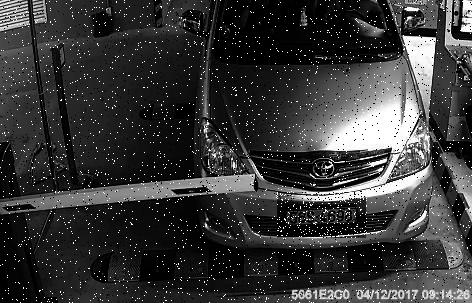License-plate: (279, 193, 369, 239)
